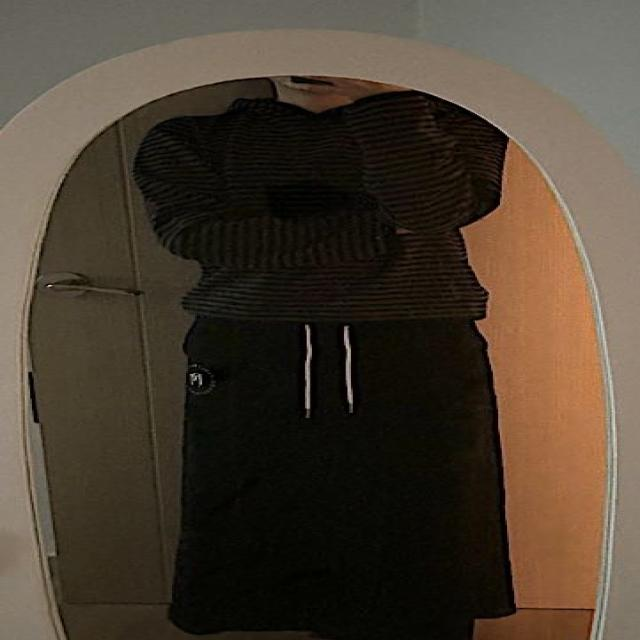longsleeve: (136, 92, 498, 320)
skirt: (167, 308, 508, 630)
